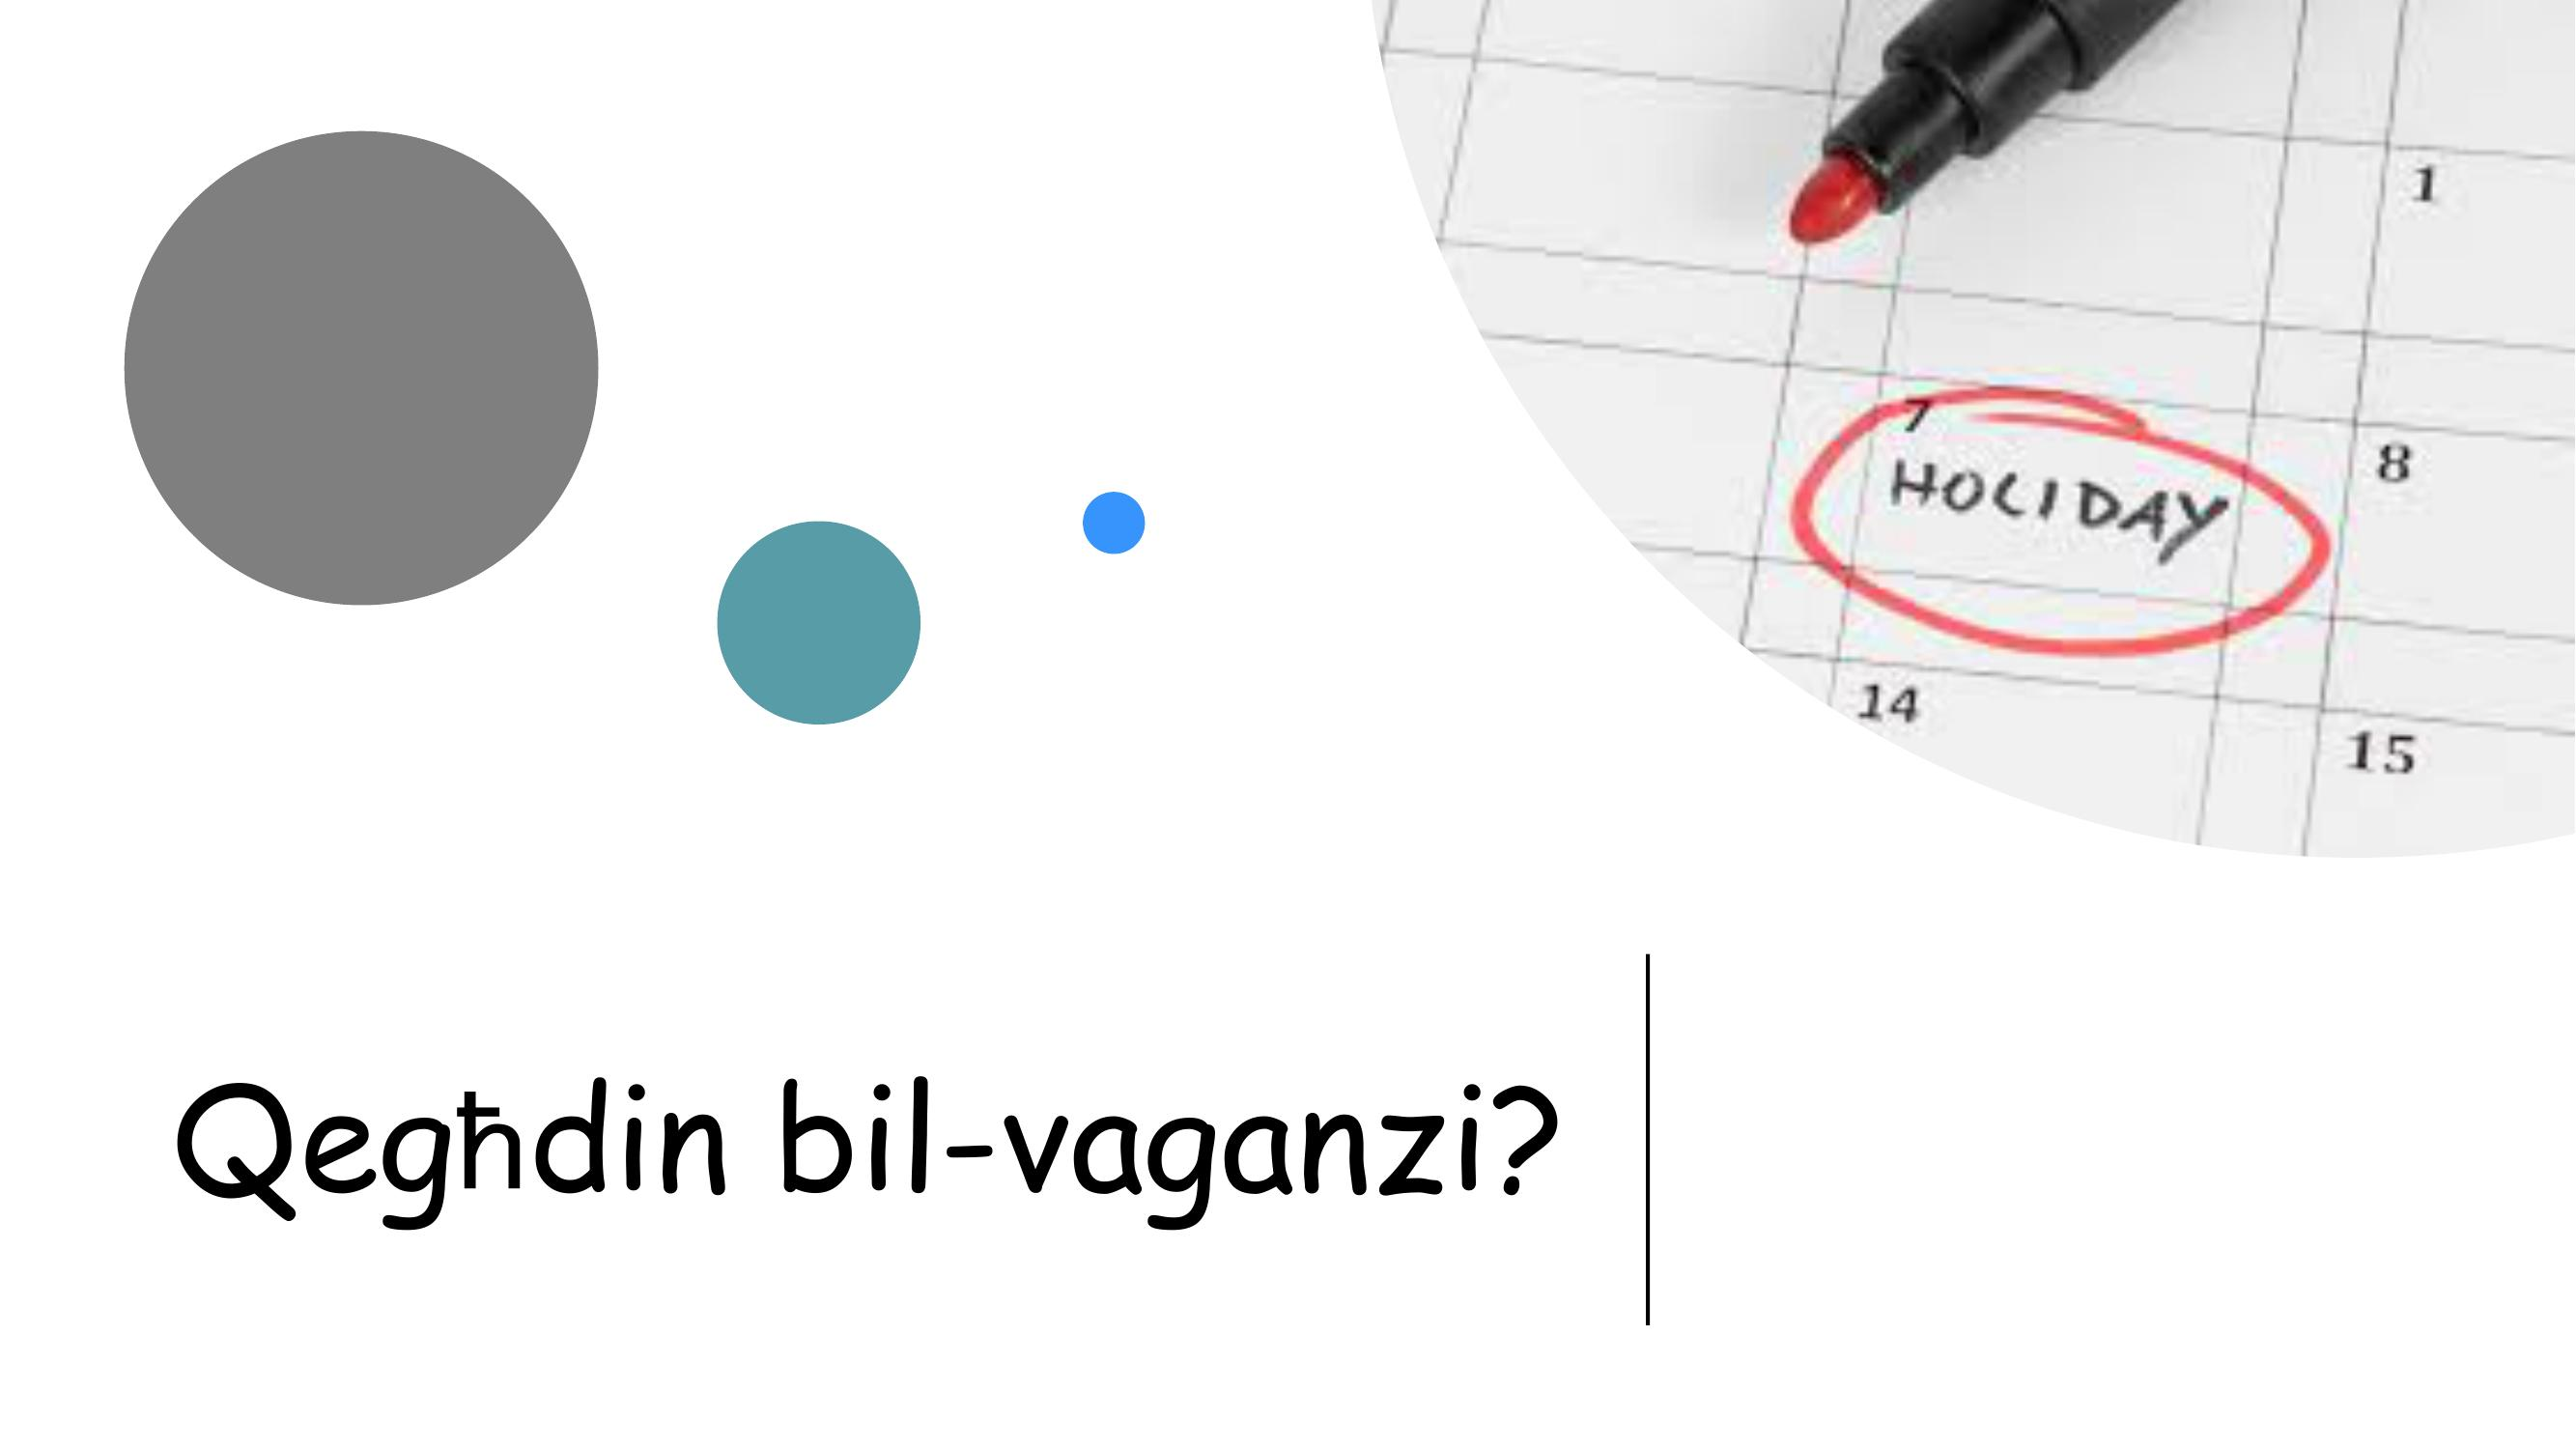text: (134, 1028, 1569, 1261)
